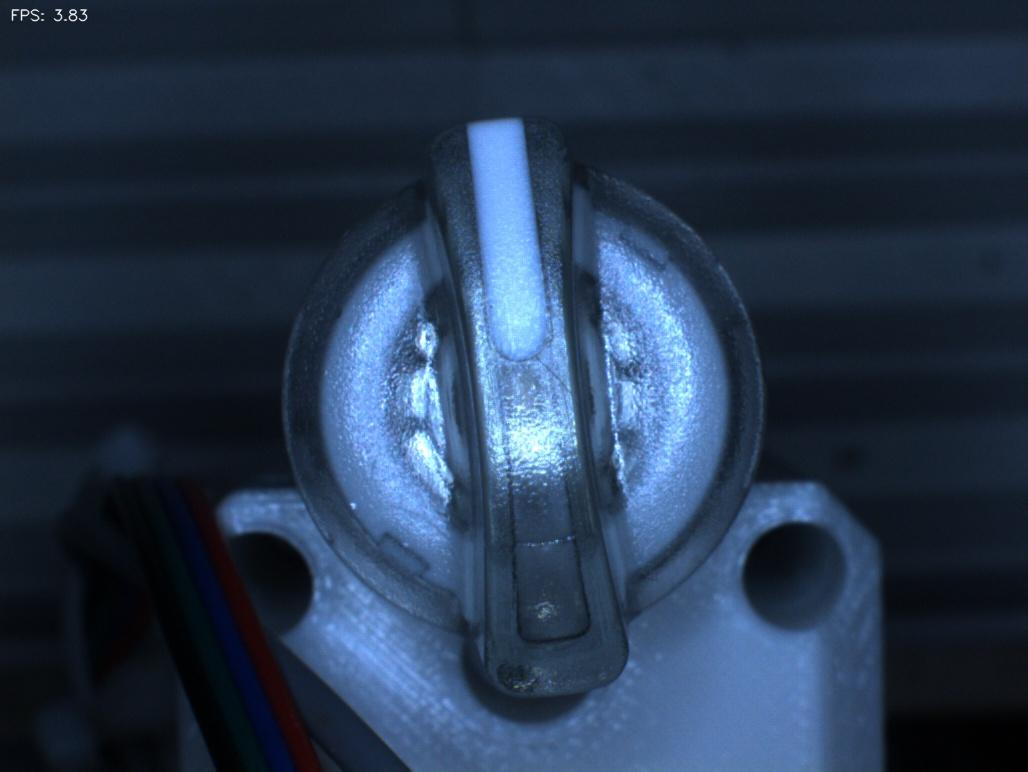Choc: (463, 640, 557, 715)
